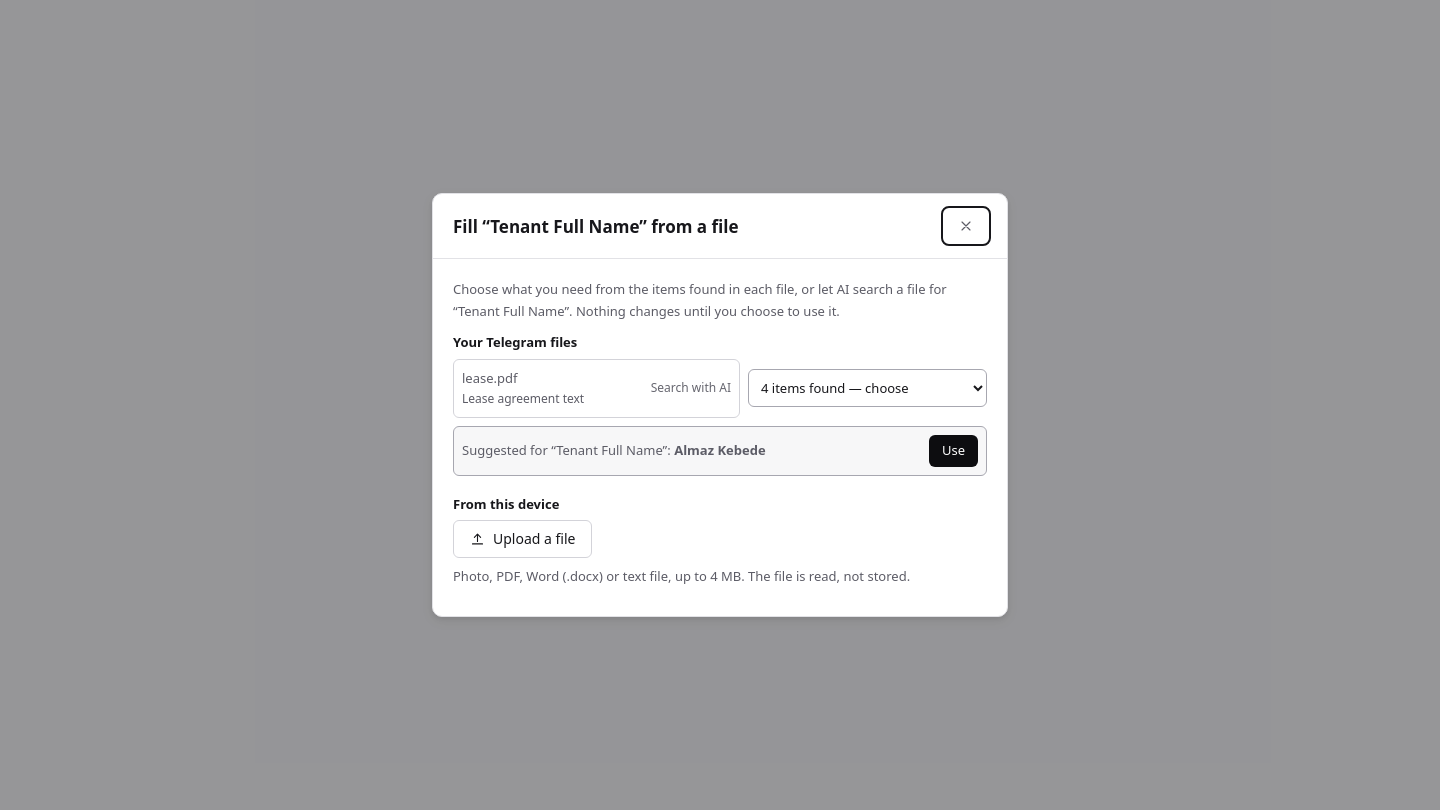
FieldFileFillDialog with the items found in each file › still searches a file with AI when it is selected after its items are read
Click the button "lease.pdf Lease agreement text Search with AI" at (490, 378), box [453, 359, 740, 418]
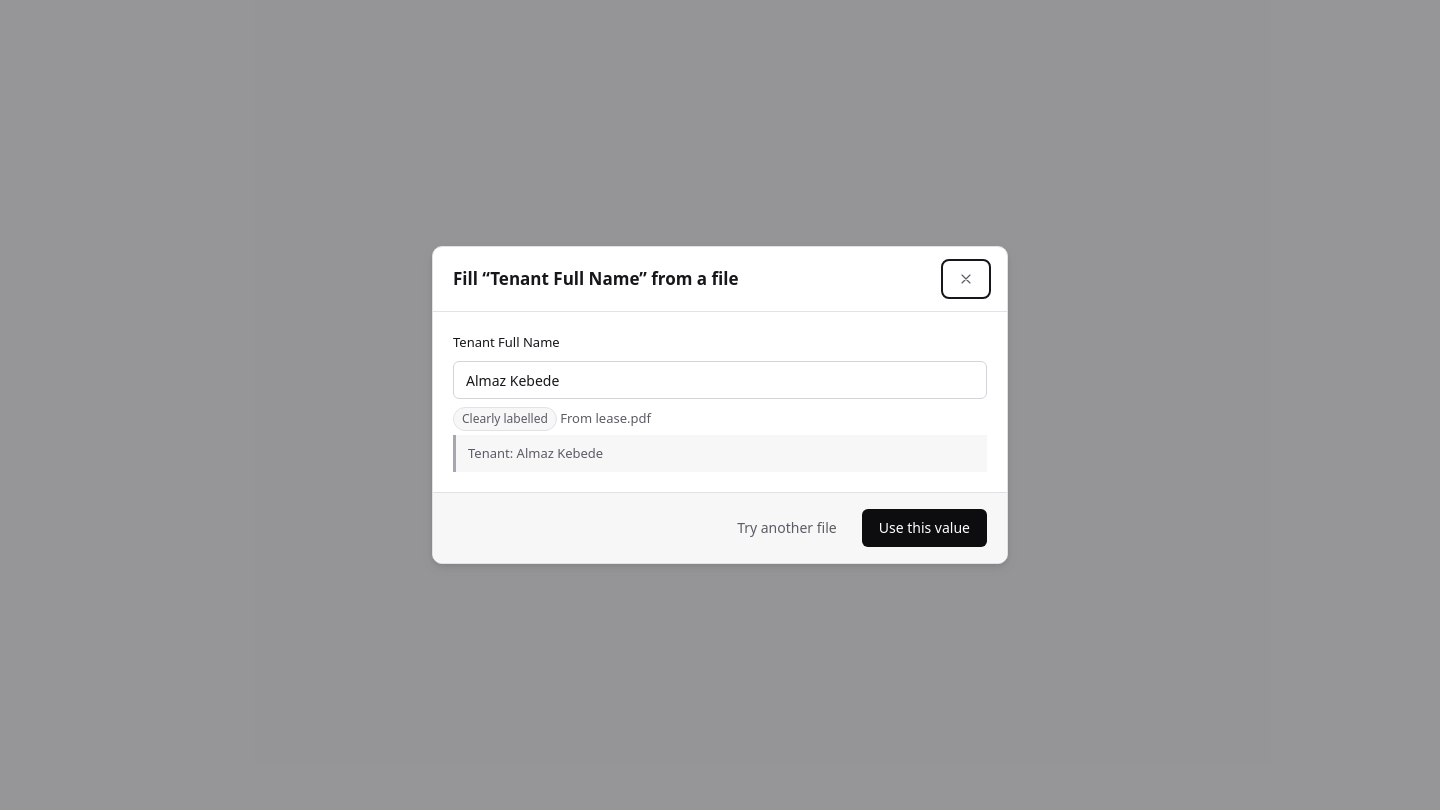
Expected: the element with test id "field-fill-result" is shown, [453, 332, 987, 472]
